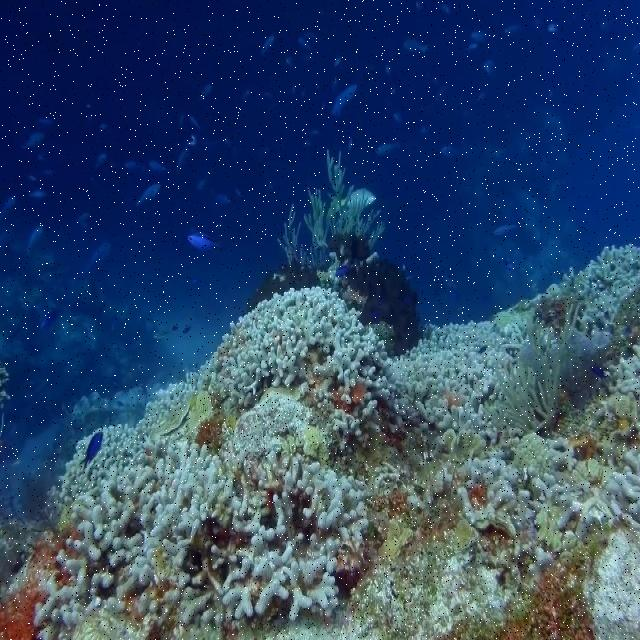aquatic plants: (277, 148, 386, 271), (494, 314, 564, 437)
fish: (80, 431, 103, 469), (188, 233, 219, 251)
reefs: (33, 441, 369, 631), (197, 286, 420, 449)
